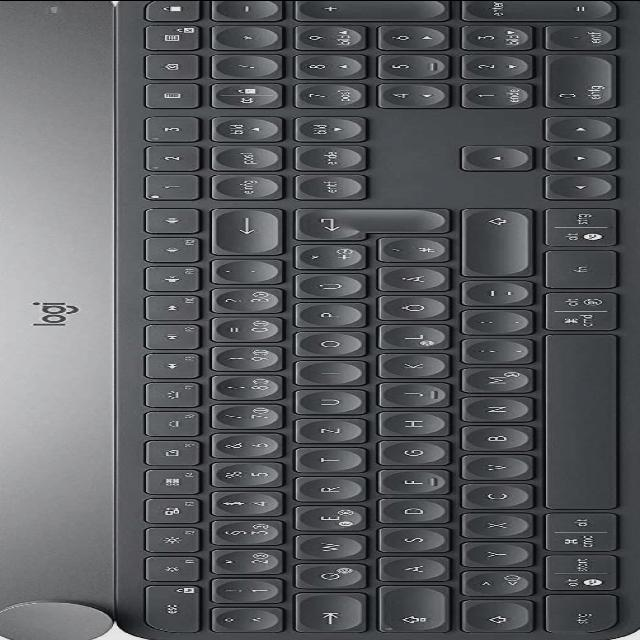0: (204, 317, 280, 344)
1: (203, 579, 277, 605)
2: (203, 549, 278, 576)
3: (204, 520, 280, 547)
4: (203, 491, 277, 517)
5: (203, 462, 278, 488)
6: (203, 433, 278, 459)
7: (205, 404, 279, 430)
8: (205, 375, 280, 401)
9: (204, 346, 280, 373)
a: (370, 557, 445, 583)
accent: (202, 260, 276, 286)
ae: (369, 267, 445, 293)
alt-left: (539, 554, 617, 593)
altgr-right: (542, 292, 620, 332)
b: (454, 426, 529, 452)
c: (454, 484, 530, 510)
caret: (203, 607, 277, 634)
comma: (454, 339, 529, 365)
d: (370, 499, 446, 525)
del: (205, 209, 279, 257)
e: (286, 505, 364, 532)
enter: (286, 210, 444, 242)
f: (370, 470, 445, 496)
g: (370, 441, 446, 467)
h: (369, 412, 445, 438)
hash: (369, 238, 445, 264)
i: (286, 361, 361, 387)
j: (370, 383, 446, 409)
k: (368, 354, 446, 380)
keyboard: (106, 0, 640, 640)
l: (370, 325, 446, 351)
less: (452, 571, 530, 598)
m: (454, 368, 530, 395)
minus: (454, 281, 529, 307)
n: (452, 397, 528, 423)
o: (286, 332, 362, 358)
oe: (370, 296, 446, 322)
p: (286, 303, 361, 329)
plus: (286, 245, 362, 271)
point: (453, 310, 527, 336)
q: (286, 563, 364, 590)
r: (287, 477, 362, 503)
s: (370, 528, 445, 554)
shift-left: (454, 600, 529, 635)
shift-lock: (370, 586, 446, 635)
shift-right: (452, 209, 527, 278)
space: (537, 333, 617, 512)
ss: (203, 288, 278, 314)
strg-left: (538, 595, 616, 636)
strg-right: (538, 207, 620, 247)
t: (286, 448, 361, 474)
tab: (287, 594, 362, 634)
u: (286, 390, 362, 416)
ue: (286, 274, 362, 300)
v: (452, 455, 528, 481)
w: (286, 535, 361, 561)
x: (454, 513, 529, 539)
y: (454, 542, 529, 568)
z: (286, 419, 361, 445)
